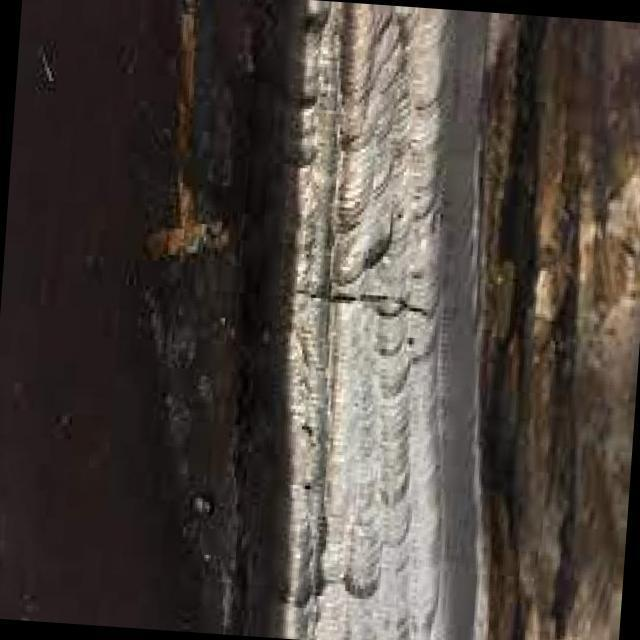defect: (286, 285, 434, 320)
